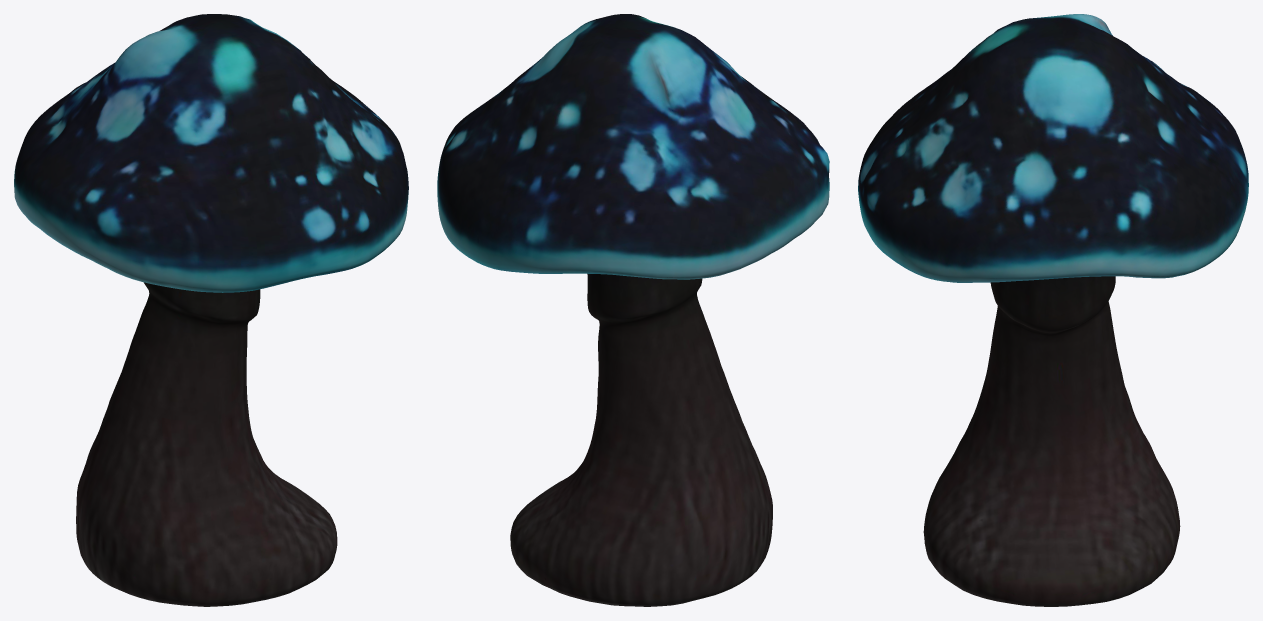
File: Mushroom.fbx
3 views of the same model, side by side, from view 1: azimuth 30°, elevation 25°; view 2: azimuth 150°, elevation 25°; view 3: azimuth 270°, elevation 25° (orthographic).
Parts seen in each view (by area): view 1: mesh; view 2: mesh; view 3: mesh.
Part boxes in pixels (left/top/right/bottom): mesh: left=14, top=14, right=408, bottom=606; mesh: left=437, top=14, right=829, bottom=606; mesh: left=858, top=14, right=1248, bottom=606.
Bounding box in the file's own units: 66.91 × 99.95 × 66.27.
